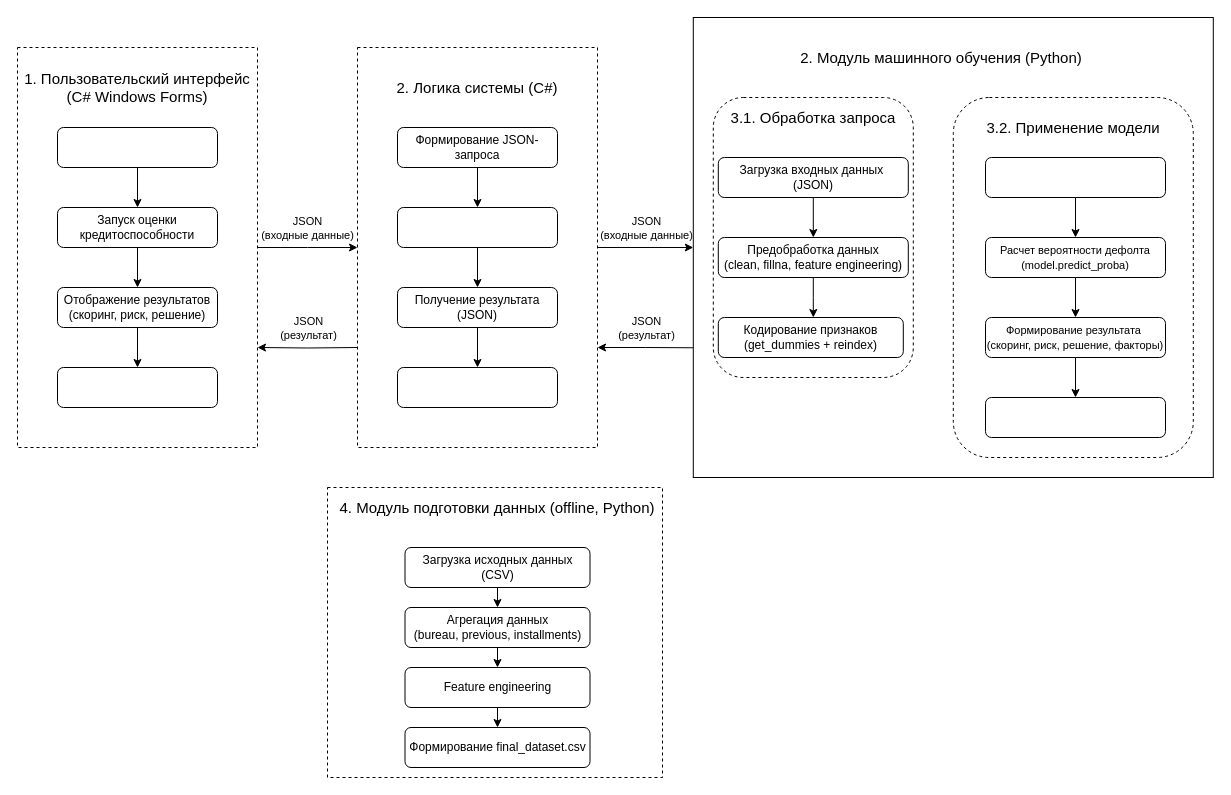
This 1231x795 diagram has some shape labels left out. The shapes that lost their labels are listed below. From the top down, each one's box as (x1, y1, x2, y2) in pixels, then its label:
(56, 126, 218, 168): Ввод данных о заемщике (форма / загрузка JSON)
(984, 156, 1166, 198): Загрузка модели и метаданных (model.pkl, columns.pkl)
(396, 206, 558, 248): Запуск Python-скрипта (predict.py)
(56, 366, 218, 408): Отображение факторов (важность признаков)
(396, 366, 558, 408): Обработка результата и передача в UI
(984, 396, 1166, 438): Формирование JSON-ответа
